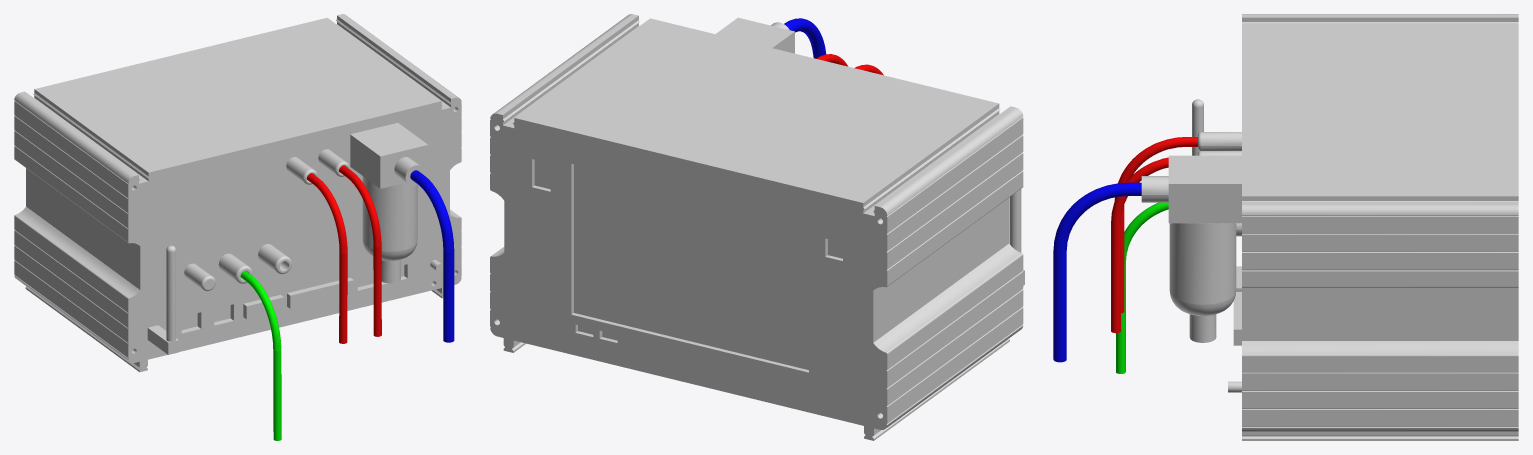
3 views of the same model, side by side, from view 1: azimuth 30°, elevation 25°; view 2: azimuth 150°, elevation 25°; view 3: azimuth 270°, elevation 25° (orthographic). The views are drawn at different scales.
Visible parts, largest first — view 1: KD200_2, 8mm_hortum, 6mm_hortum_3, 6mm_hortum, 6mm_hortum_5; view 2: KD200_2, 8mm_hortum; view 3: KD200_2, 8mm_hortum, 6mm_hortum_3, 6mm_hortum, 6mm_hortum_5.
Part boxes in pixels (x1,y1,x2,y2): KD200_2: (14, 14, 461, 372); 8mm_hortum: (410, 170, 454, 342); 6mm_hortum_3: (339, 165, 381, 336); 6mm_hortum: (306, 173, 347, 343); 6mm_hortum_5: (240, 271, 281, 440); KD200_2: (490, 14, 1024, 440); 8mm_hortum: (784, 18, 826, 58); KD200_2: (1141, 14, 1518, 440); 8mm_hortum: (1053, 182, 1141, 362); 6mm_hortum_3: (1111, 157, 1168, 333); 6mm_hortum: (1114, 137, 1197, 313); 6mm_hortum_5: (1116, 202, 1168, 373).
Bounding box in the file's own units: 280 × 200 × 279.
